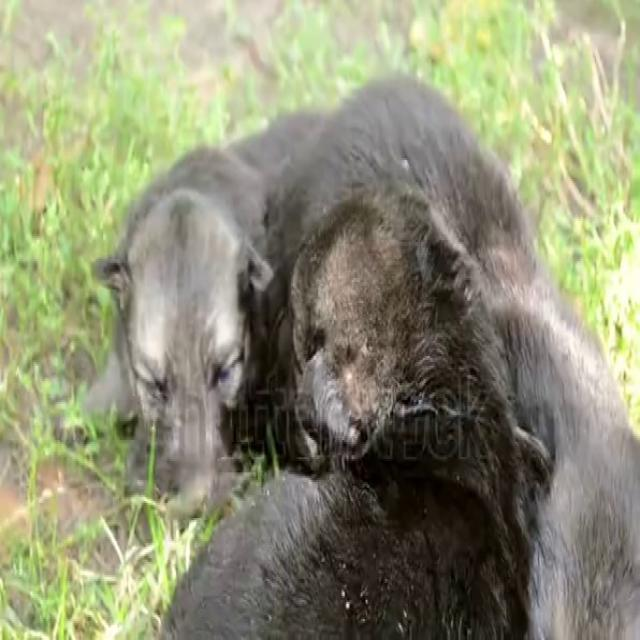normal_animals: (81, 69, 636, 636)
